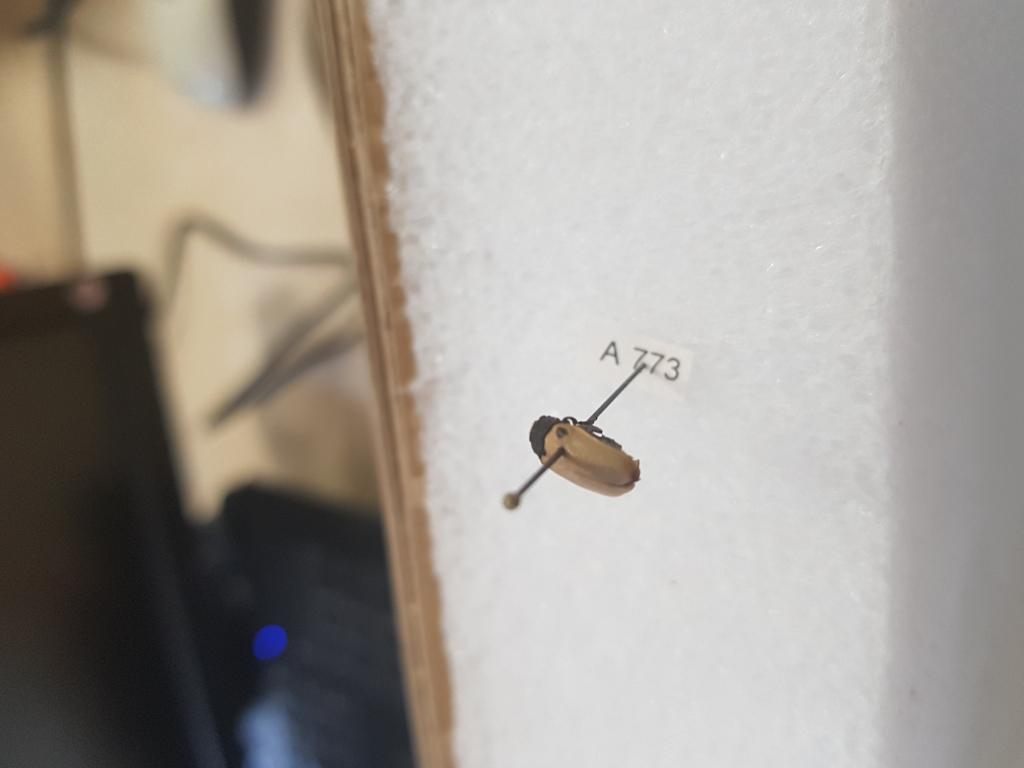Labidostomis_propinqua: (527, 412, 644, 498)
